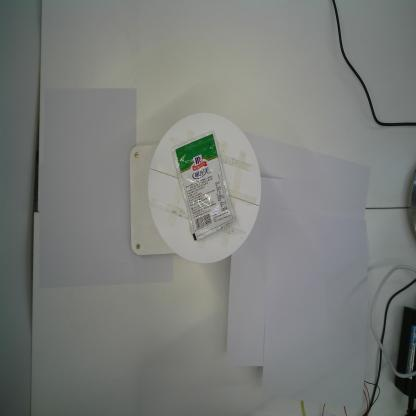Seasoner: (171, 129, 236, 242)
